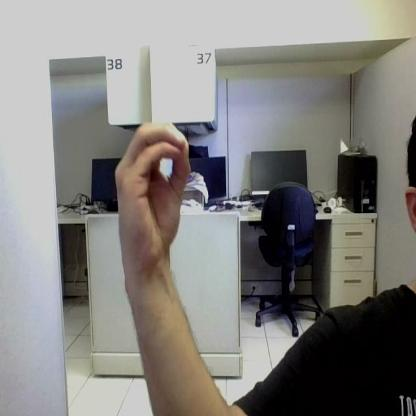O: (115, 120, 190, 273)
